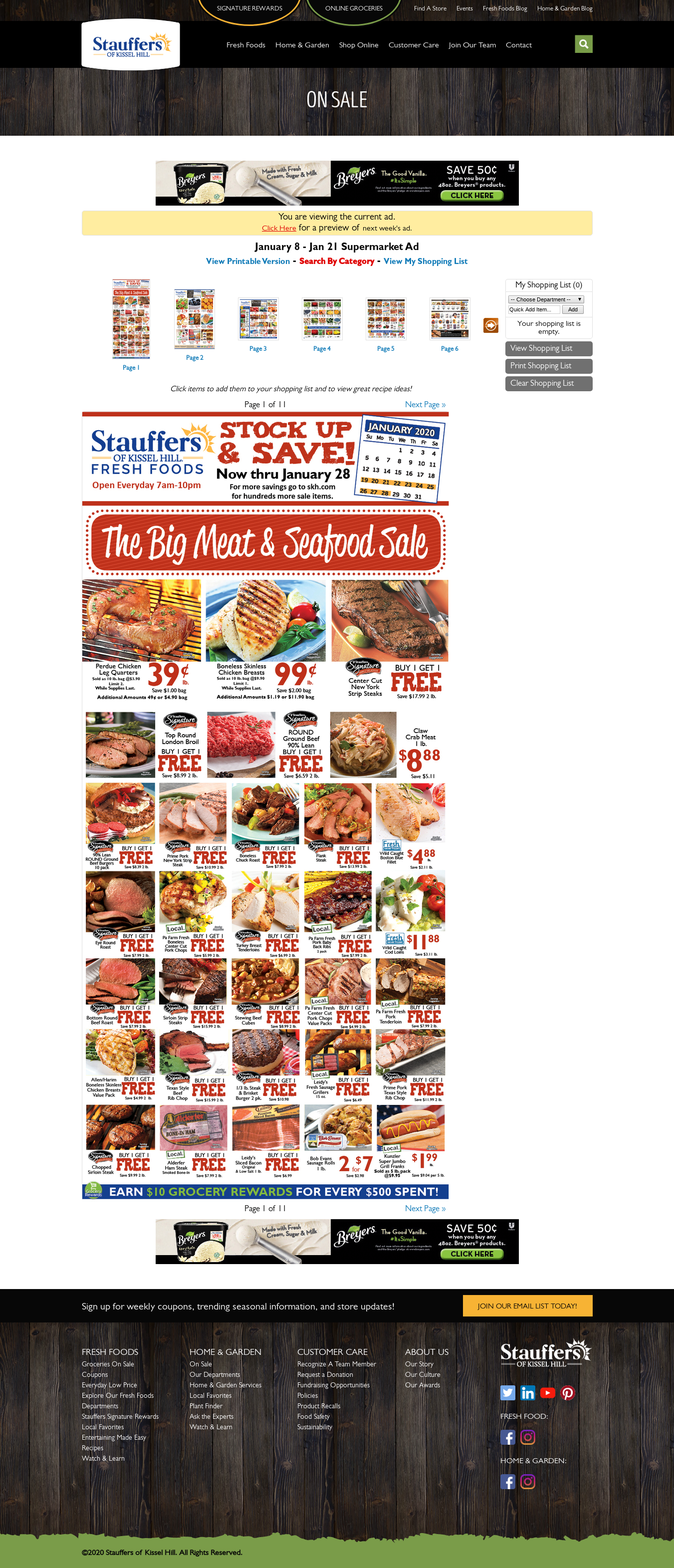fake_button: (440, 186, 508, 210), (440, 1247, 503, 1265)
